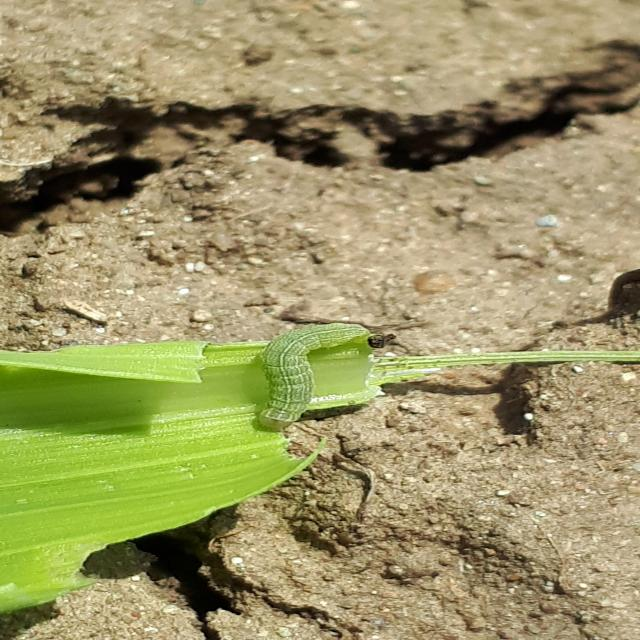armyworm: (262, 323, 375, 426)
